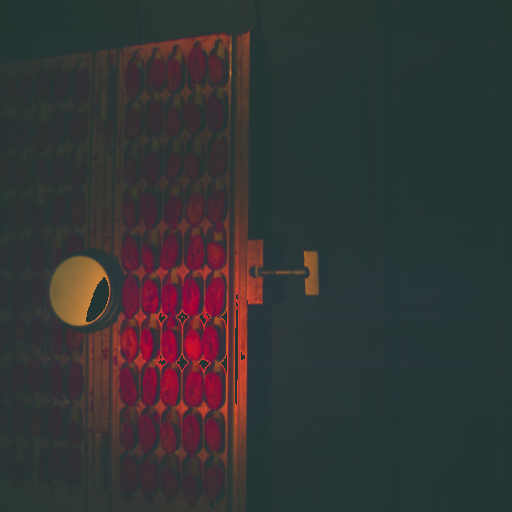bueno: (159, 235, 181, 269), (161, 367, 179, 406), (208, 141, 227, 177), (141, 191, 159, 227), (140, 282, 159, 316), (159, 420, 177, 455), (206, 191, 225, 222), (187, 52, 204, 86), (205, 243, 227, 269), (182, 148, 201, 178), (73, 69, 89, 104), (124, 57, 139, 94), (147, 101, 162, 137), (148, 57, 164, 89), (27, 359, 42, 392), (30, 237, 44, 271), (51, 154, 66, 184), (17, 75, 31, 107), (29, 407, 43, 437), (146, 148, 159, 180), (50, 198, 65, 225), (16, 162, 30, 190), (52, 113, 65, 143), (56, 70, 67, 102)
malo: (204, 277, 225, 315), (185, 189, 204, 226), (165, 191, 183, 227), (184, 372, 203, 406), (121, 195, 139, 228), (142, 460, 157, 495), (48, 446, 64, 478), (205, 420, 222, 450), (122, 240, 139, 270), (162, 467, 178, 498), (163, 283, 178, 315), (209, 53, 224, 85), (70, 158, 86, 187), (28, 279, 44, 307), (121, 422, 136, 450), (69, 198, 84, 226), (14, 200, 28, 227), (66, 234, 85, 253), (124, 159, 139, 183), (13, 364, 25, 393), (32, 206, 47, 229), (66, 422, 81, 444), (35, 462, 47, 481)
parcial: (179, 413, 201, 452), (179, 281, 201, 315), (138, 416, 157, 452), (118, 457, 137, 493), (205, 373, 223, 408), (164, 57, 183, 90), (208, 97, 226, 131), (203, 326, 219, 361), (185, 104, 203, 134), (121, 369, 136, 405), (186, 238, 203, 269), (68, 363, 83, 398), (142, 368, 156, 405), (48, 319, 64, 351), (163, 328, 178, 362), (121, 327, 137, 358), (206, 468, 222, 499), (166, 108, 183, 137), (66, 455, 83, 484), (48, 407, 63, 439), (71, 111, 85, 145), (126, 110, 141, 141), (123, 279, 136, 314), (11, 280, 24, 315), (34, 119, 48, 151), (140, 239, 155, 268), (186, 328, 200, 359), (14, 120, 30, 147), (12, 404, 26, 434), (65, 329, 84, 351), (183, 470, 198, 497), (50, 363, 62, 395), (32, 319, 46, 346), (142, 328, 154, 359), (166, 150, 179, 178), (13, 242, 25, 272), (35, 72, 48, 98), (35, 158, 47, 184), (1, 121, 11, 151), (13, 462, 24, 479)
